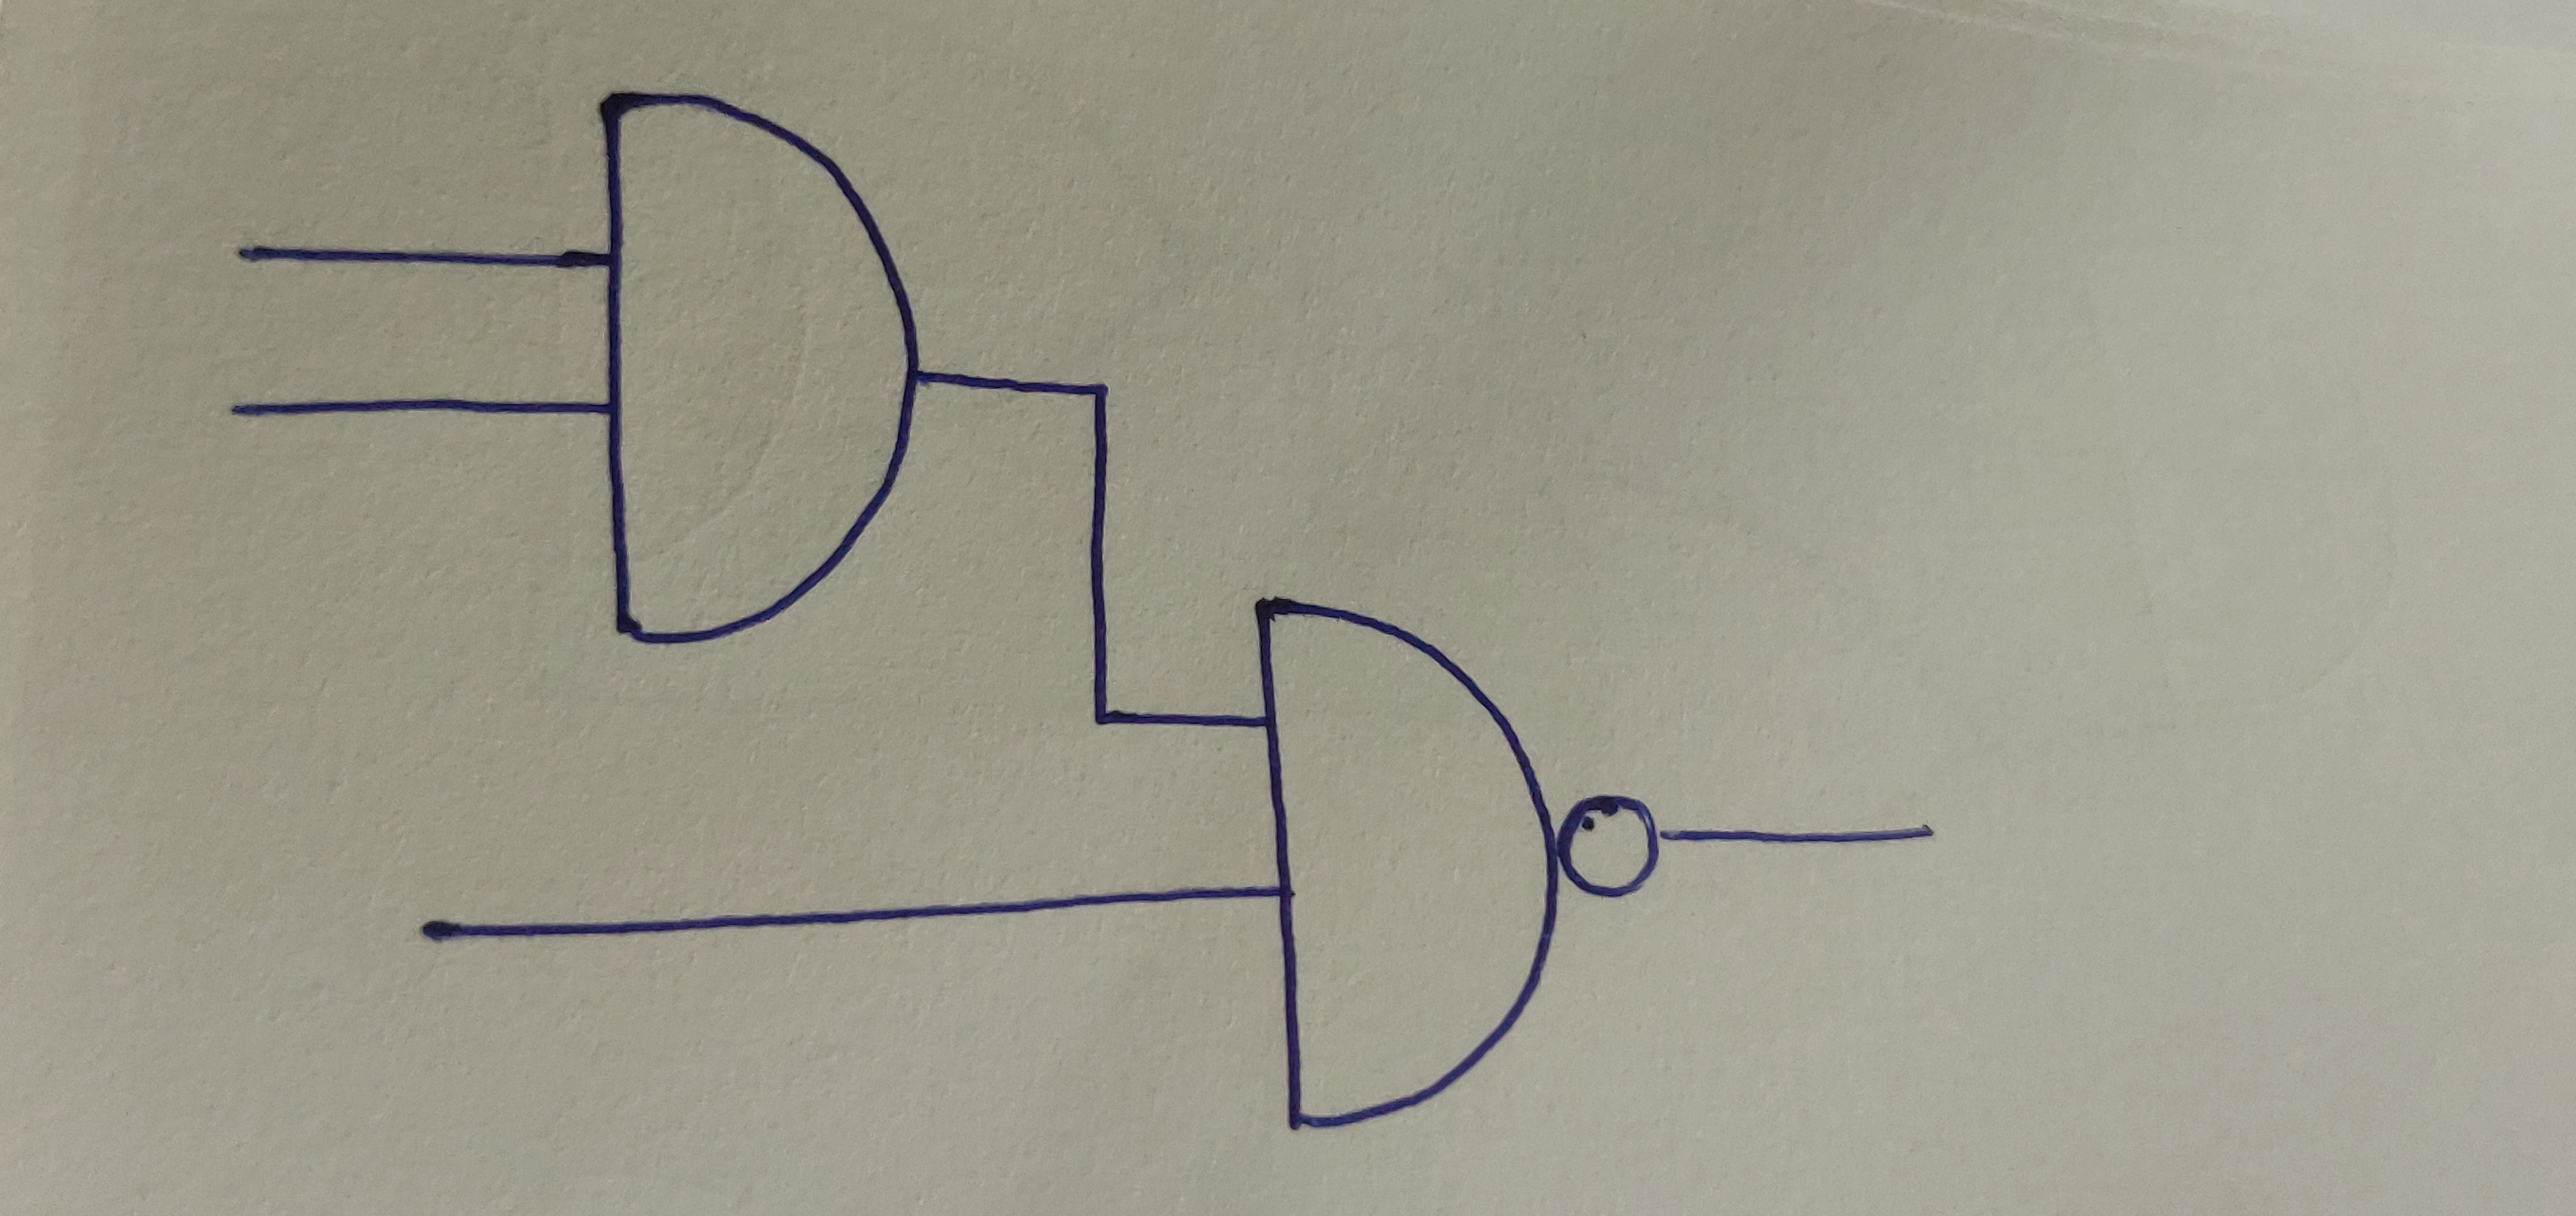and: (593, 85, 927, 651), (1245, 593, 1559, 1126)
not: (1557, 790, 1666, 902)
